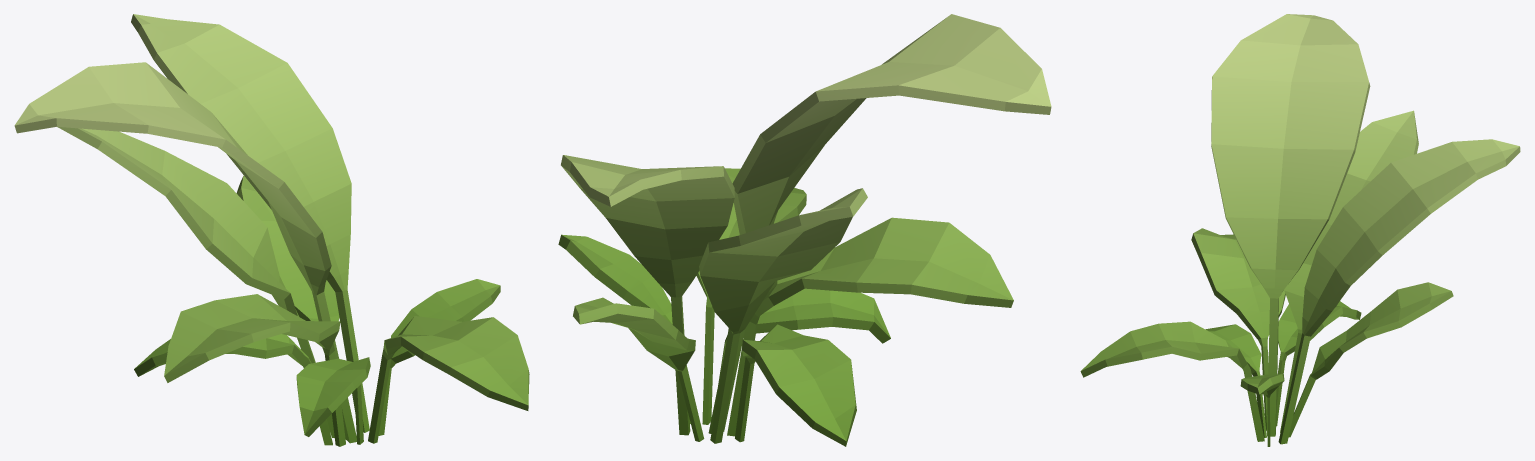
The model's file is shrub-4.glb.
3 views of the same model, side by side, from view 1: azimuth 30°, elevation 25°; view 2: azimuth 150°, elevation 25°; view 3: azimuth 270°, elevation 25° (orthographic). The views are drawn at different scales.
Parts seen in each view (by area): view 1: shrub 4; view 2: shrub 4; view 3: shrub 4.
Boxes of the visible parts, left/top/right/bottom form: shrub 4: left=14, top=14, right=529, bottom=446; shrub 4: left=558, top=14, right=1051, bottom=446; shrub 4: left=1080, top=14, right=1520, bottom=446.
Bounding box in the file's own units: 1.02 × 0.8283 × 1.07.
Materials: 1 (1 with a texture image).
